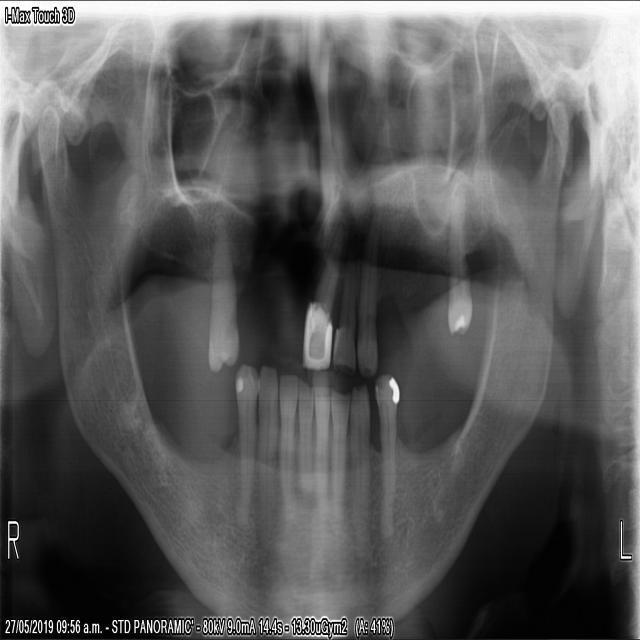LCD: (349, 382, 371, 504)
LCU: (355, 250, 378, 378)
LID: (327, 385, 348, 498), (312, 384, 329, 500)
LIU: (301, 233, 341, 367), (330, 251, 358, 374)
LMU: (445, 200, 474, 336)
LPMD: (373, 370, 401, 539)
RCD: (254, 355, 278, 483)
RID: (292, 370, 315, 488), (276, 367, 298, 482)
RPMD: (233, 354, 259, 474)
RPMU: (207, 235, 240, 374)
